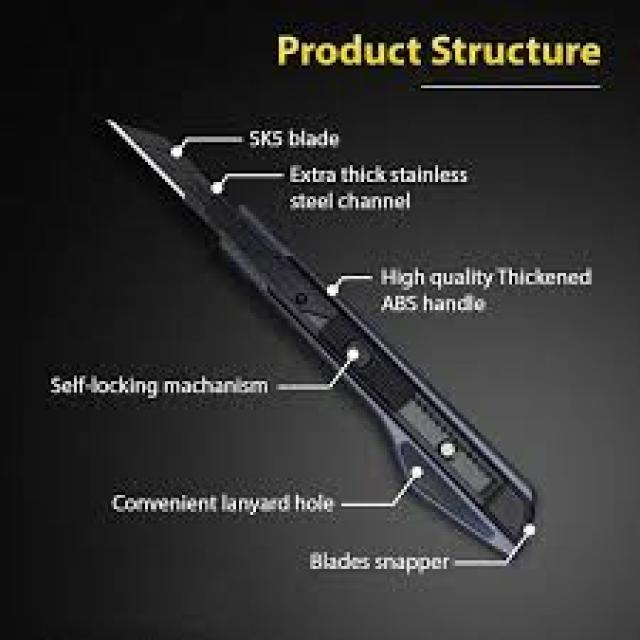cutter: (100, 113, 538, 559)
